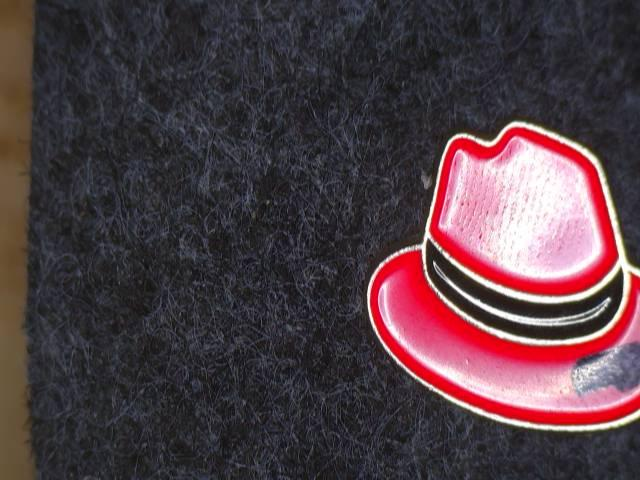Red-Hat: (337, 86, 640, 451)
Scratch: (561, 337, 640, 406)
